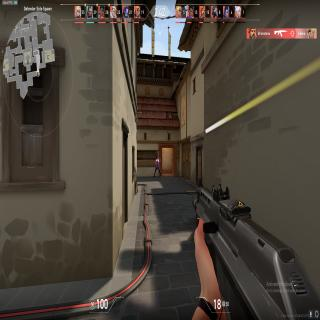ENEMY-BODY: (153, 155, 161, 179)
ENEMY-HEAD: (156, 156, 158, 160)
